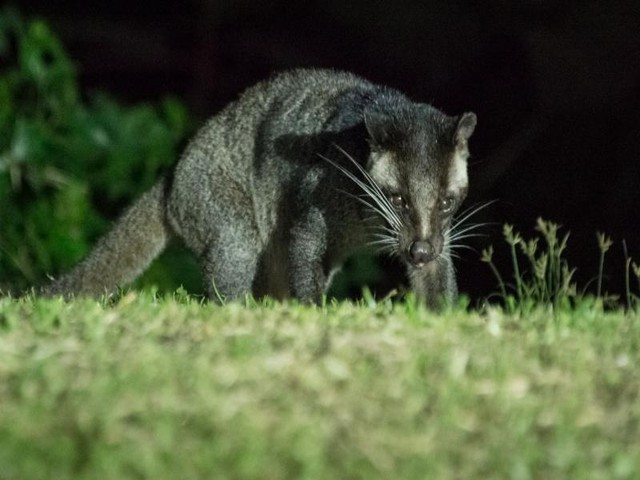civet: (41, 65, 480, 304)
